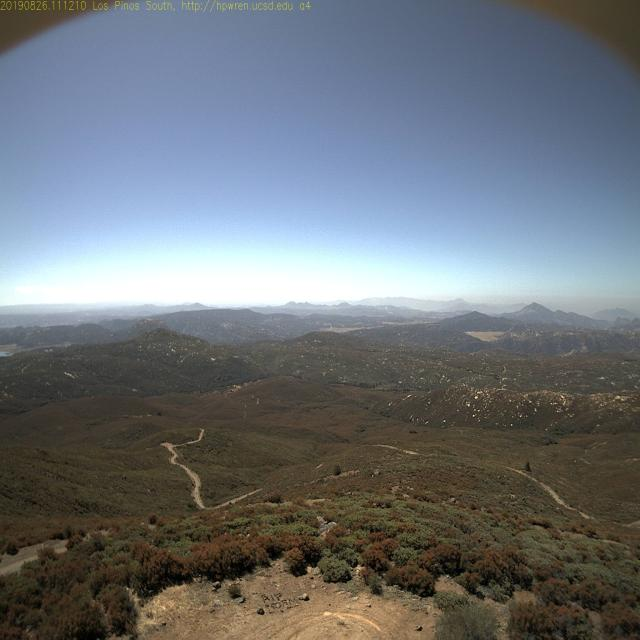smoke: (379, 298, 396, 316)
